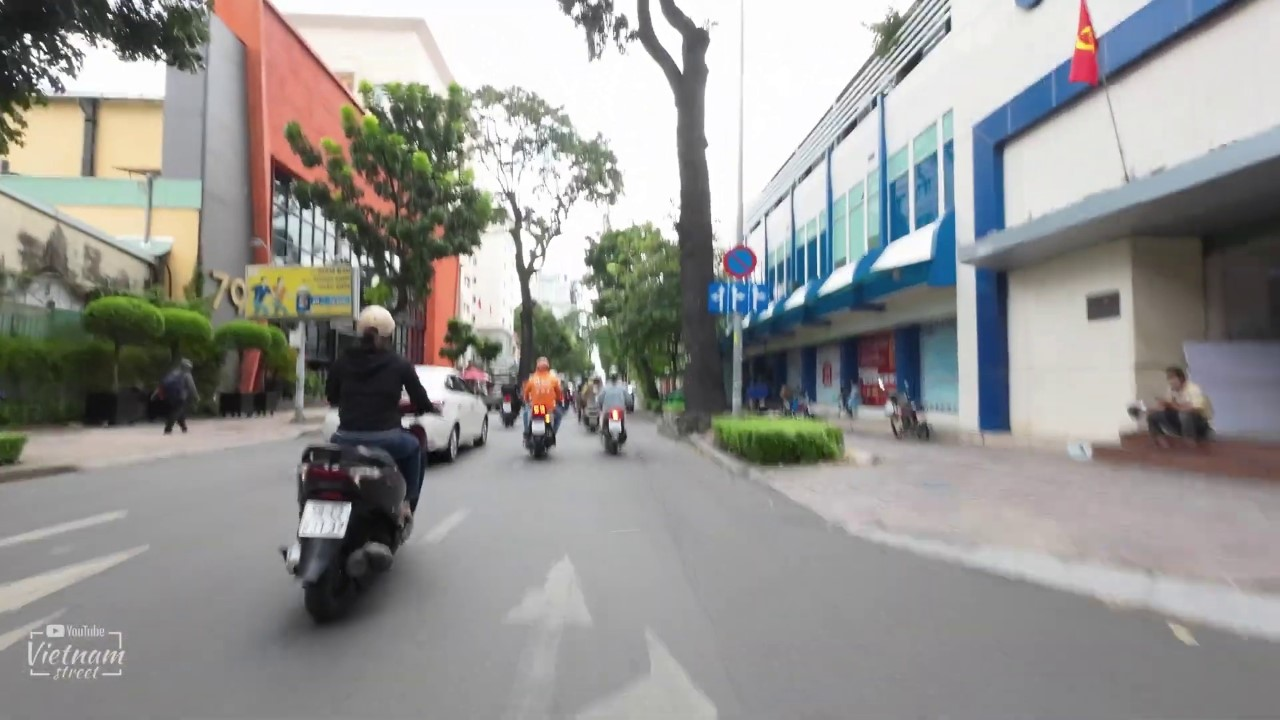cam_do_xe: (723, 246, 758, 279)
